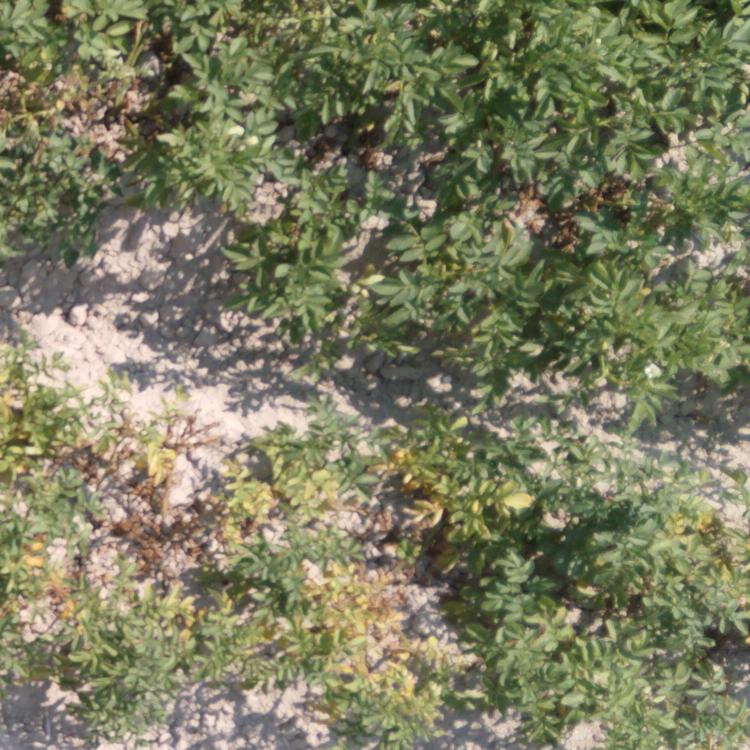healthy: (532, 157, 740, 398), (372, 152, 512, 385), (530, 1, 745, 150), (310, 7, 507, 142), (533, 436, 653, 597), (256, 164, 361, 337), (171, 6, 291, 131), (468, 596, 572, 740), (601, 642, 733, 749), (1, 144, 111, 254), (172, 131, 253, 219)
stressed: (221, 412, 370, 572), (383, 407, 524, 575), (318, 580, 456, 746), (1, 370, 128, 515), (60, 587, 169, 742), (174, 597, 316, 687), (668, 486, 745, 635), (15, 46, 135, 140), (146, 403, 205, 520), (1, 533, 51, 667)
